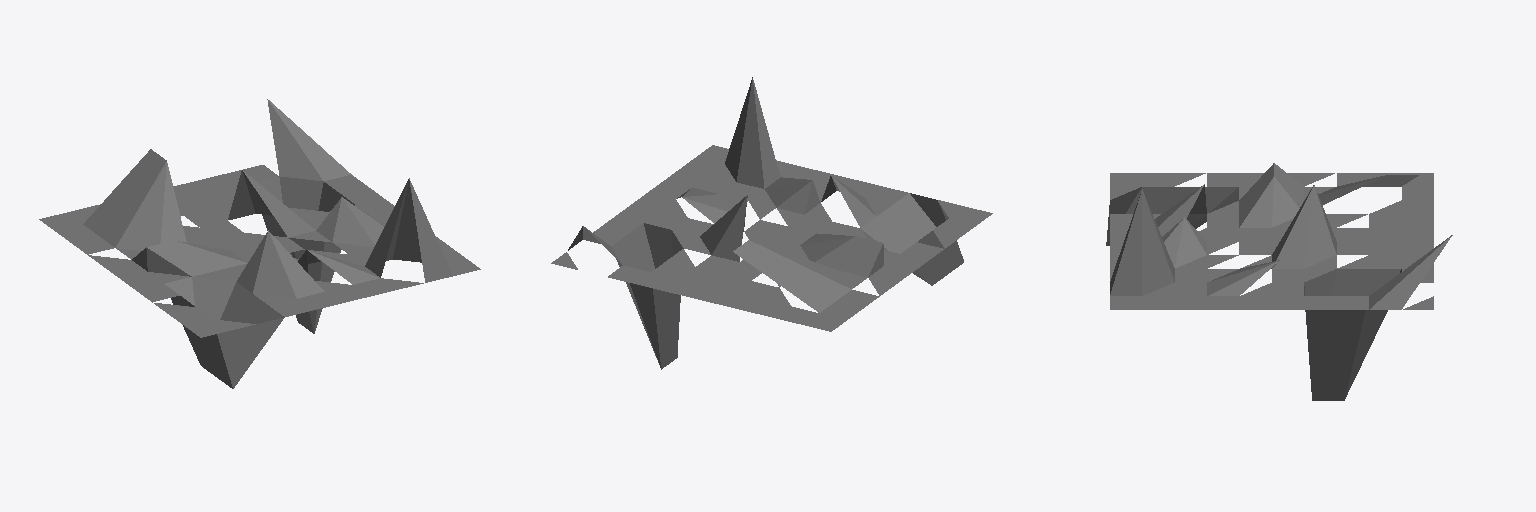
The model's file is pan2.obj.
3 renders of one model, left to right at view 1: azimuth 30°, elevation 25°; view 2: azimuth 150°, elevation 25°; view 3: azimuth 270°, elevation 25°, orthographic.
Visible parts, largest first — view 1: pPlane1; view 2: pPlane1; view 3: pPlane1.
Boxes of the visible parts, <box> form: pPlane1: <box>39,99,480,388</box>; pPlane1: <box>551,77,992,369</box>; pPlane1: <box>1106,163,1452,400</box>.
Size of the model in its own units: 20 by 14.75 by 21.45.